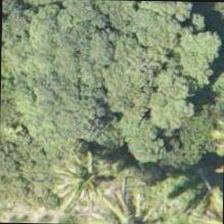Kelapa_Sawit: (47, 132, 139, 224)
